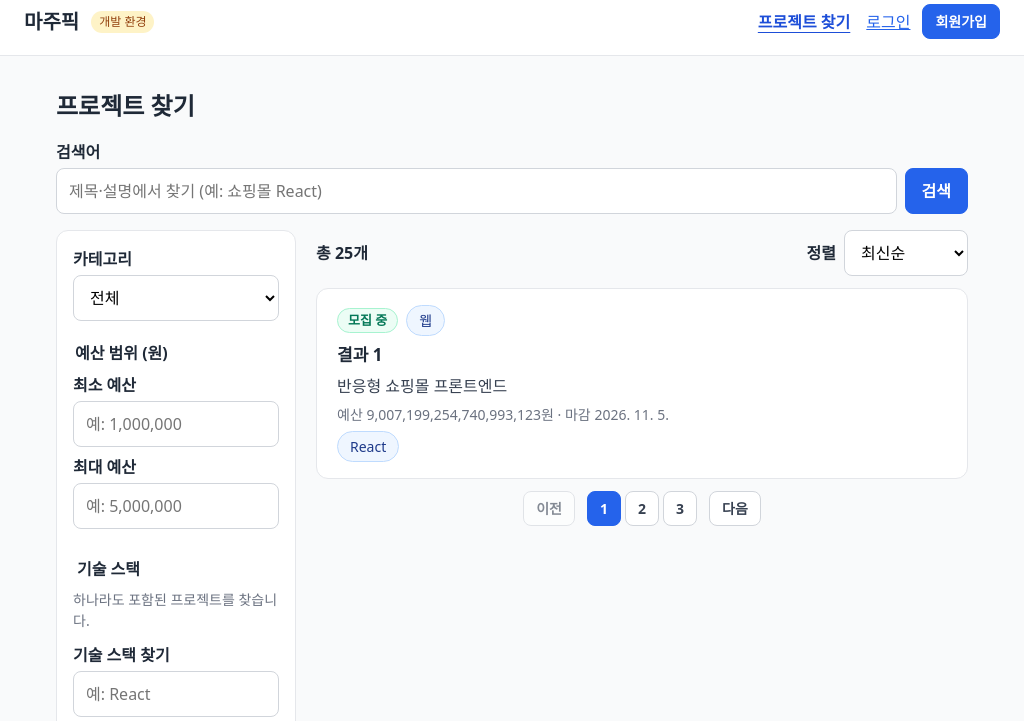
Test: project search page (SRCH-01) › moves between pages and goes back to page 1 when a filter changes
The image size is (1024, 721).
Expected: the link "결과 1" is shown, [337, 343, 382, 366]
Expected: the button "이전" is disabled, [523, 490, 575, 526]
Click the button named "2페이지" at (642, 508), box [625, 490, 659, 526]
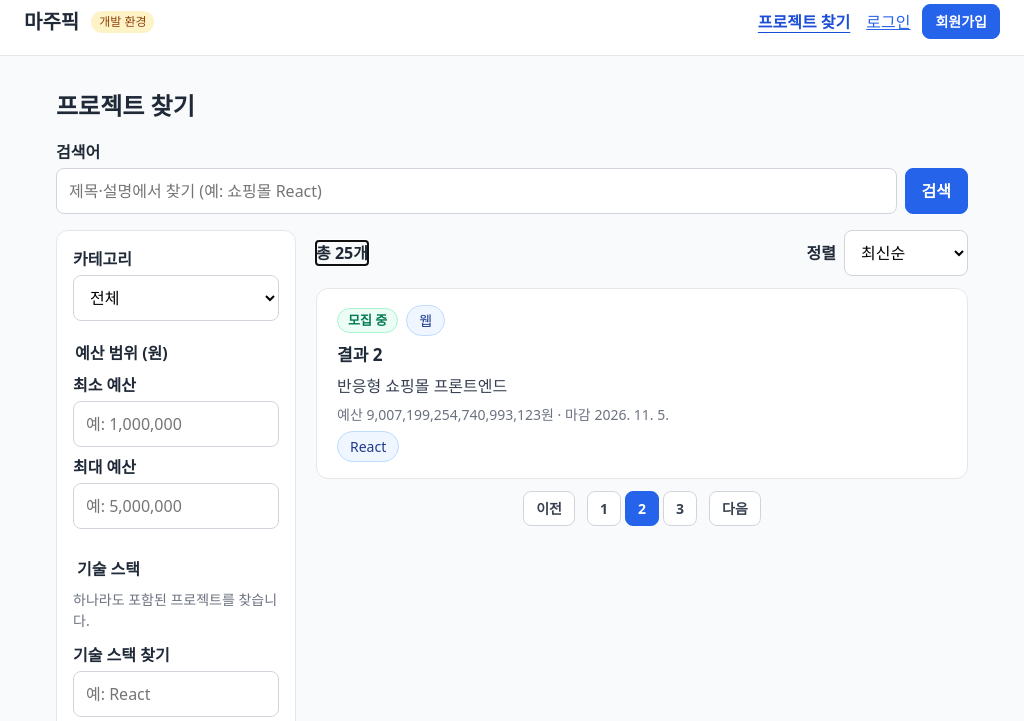
Now the link "결과 2" is shown, box [337, 343, 382, 366]
Click the button "다음" at (735, 508), box [709, 490, 761, 526]
(page scrolled)
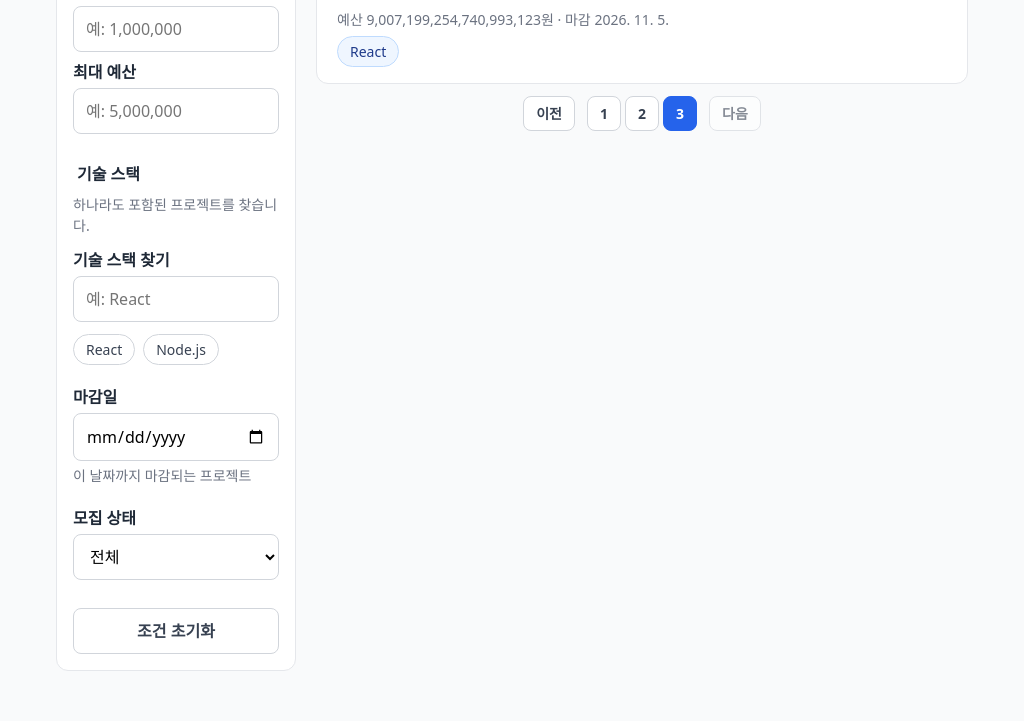
Now the button "다음" is disabled, box [709, 96, 761, 130]
Select "모집 예정" in the dropdown labelled "모집 상태" at (176, 557), box [73, 534, 279, 580]
(page scrolled)
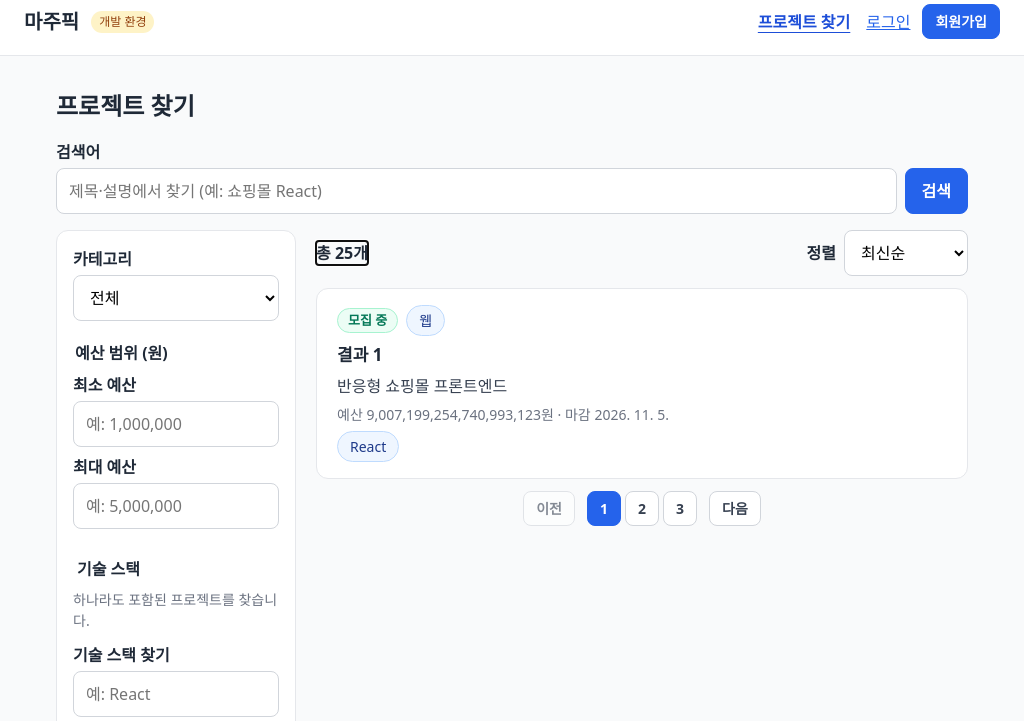
Now the link "결과 1" is shown, box [337, 343, 382, 366]
